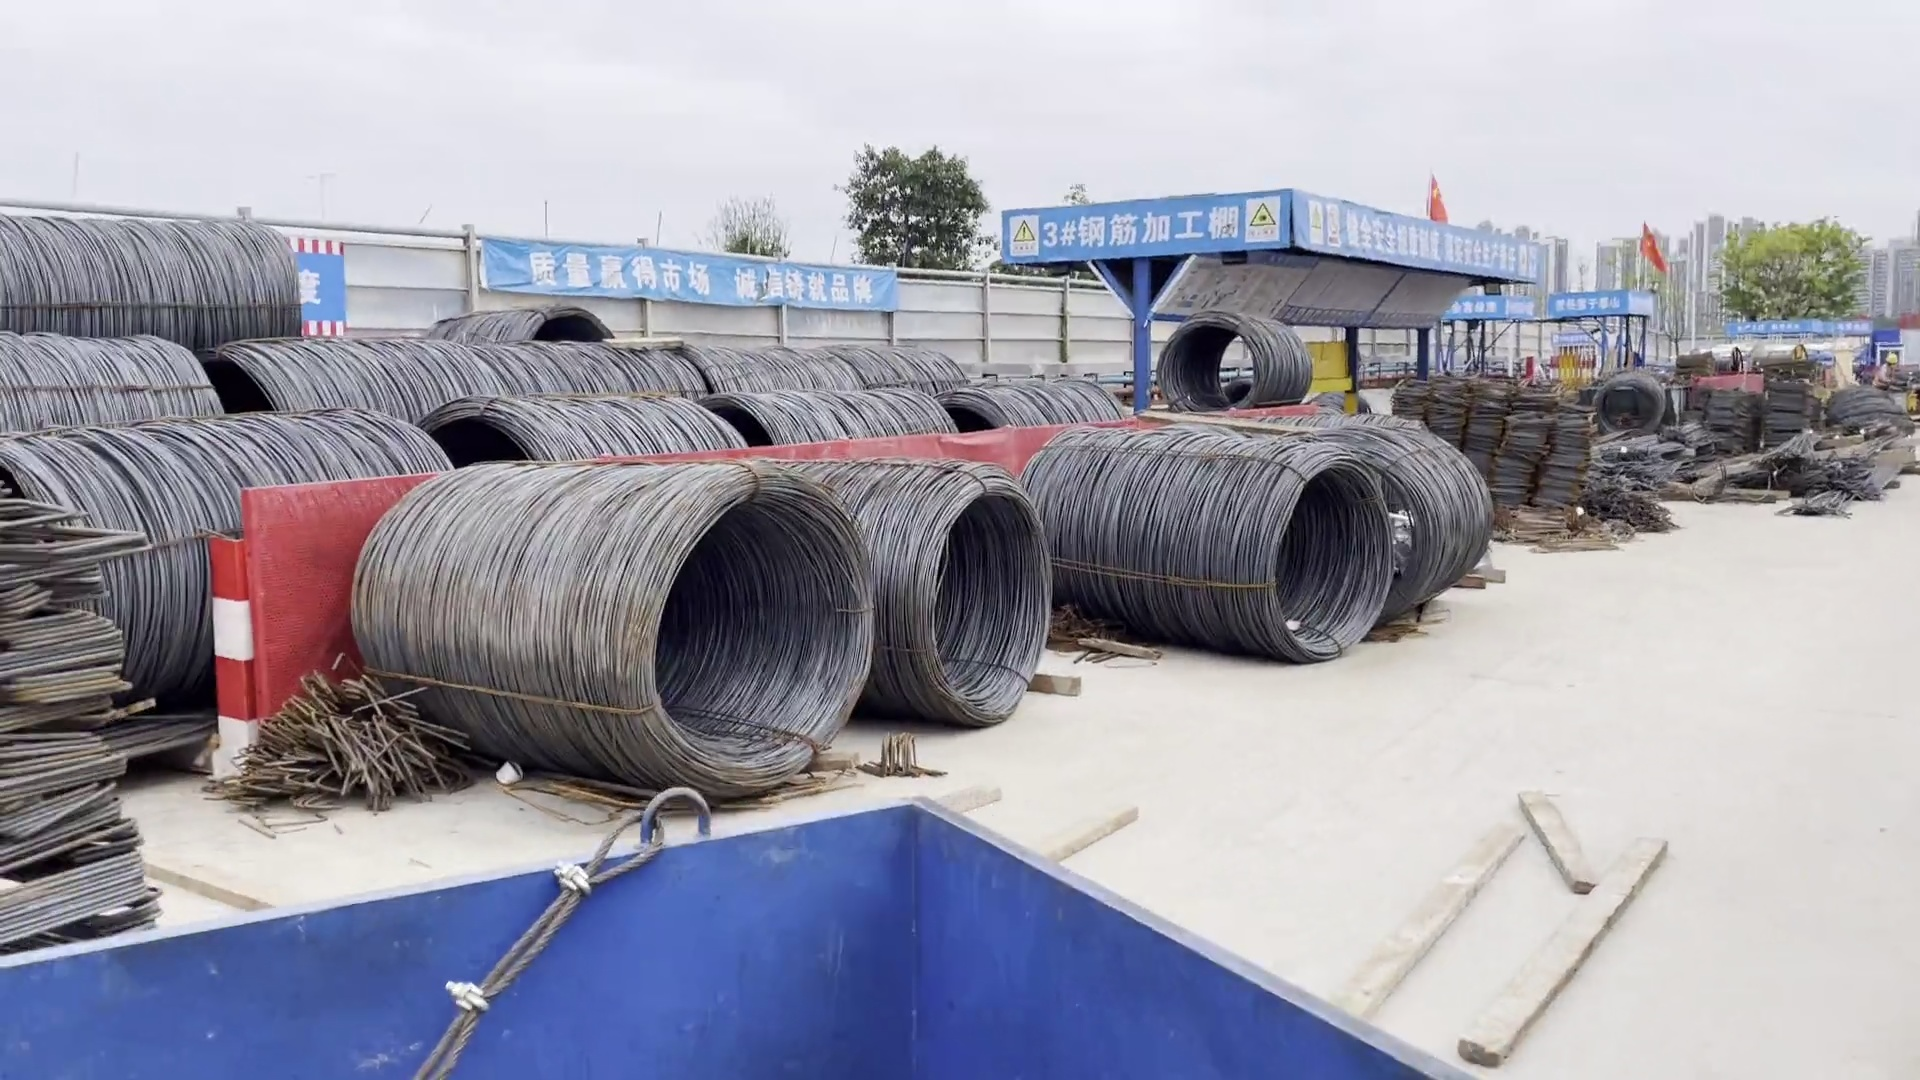hopper: (1, 791, 1505, 1077)
slogan: (517, 237, 862, 309)
